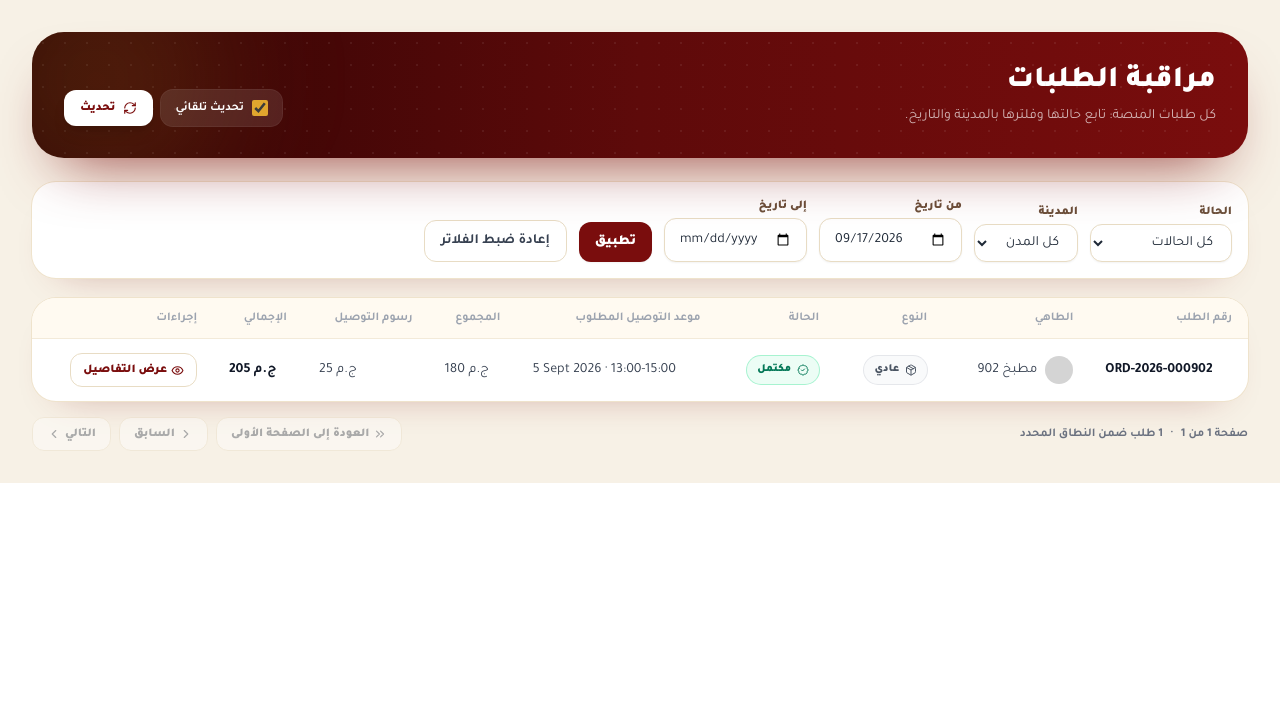
US3 — inspect one order in detail › AC2: every line item is shown; line totals match the subtotal
The width and height of the screenshot is (1280, 720).
Expected: the text "ORD-2026-000902" is shown, [1089,338,1248,401]
Step 1. Click the button "عرض التفاصيل" → (134,370), box [70,353,197,387]
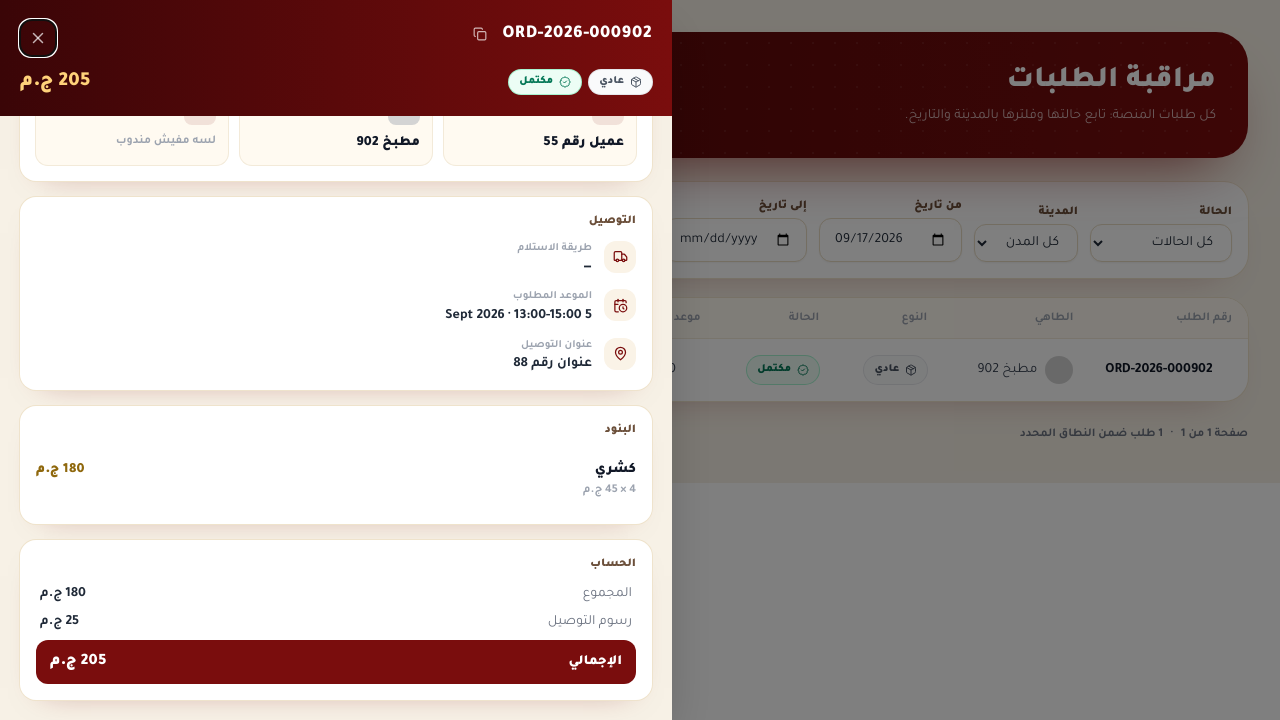
Now the text "كشري" is shown, box [595,463,636,477]
